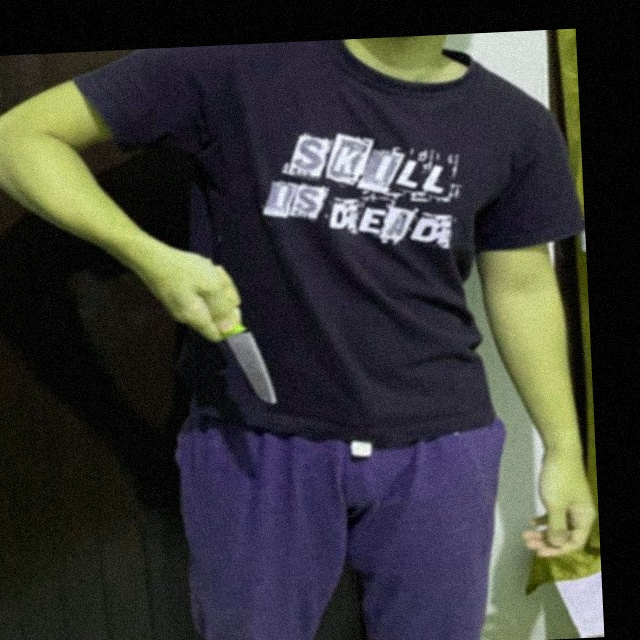Sharp-Object: (221, 321, 280, 409)
